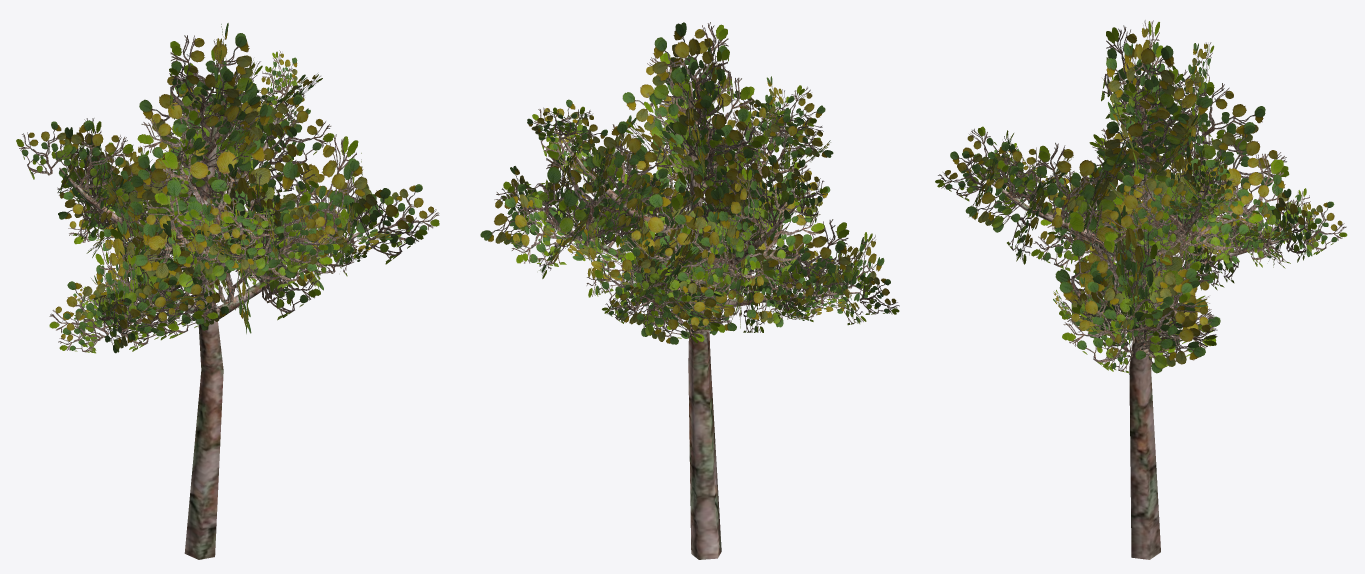
The model's file is tree3.obj.
3 renders of one model, left to right at view 1: azimuth 30°, elevation 25°; view 2: azimuth 150°, elevation 25°; view 3: azimuth 270°, elevation 25°, orthographic.
Parts seen in each view (by area): view 1: Object_285; view 2: Object_285; view 3: Object_285.
Boxes of the visible parts, box(x1,y1,x2,y2) form: Object_285: box(16, 23, 439, 559); Object_285: box(480, 22, 899, 559); Object_285: box(935, 20, 1347, 559).
Size of the model in its own units: 27.42 by 34.73 by 24.87.
1 material, 1 textured.
